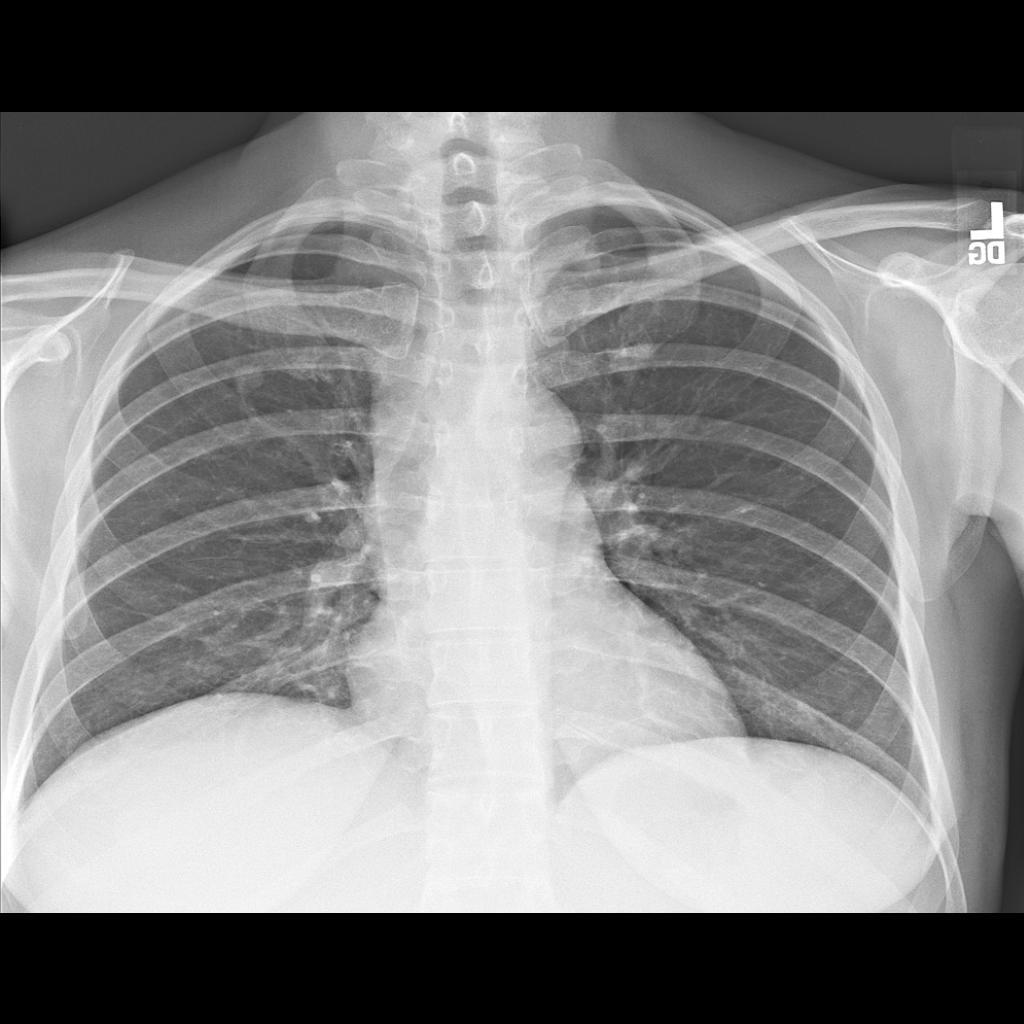Nodule: (233, 364, 270, 399)
